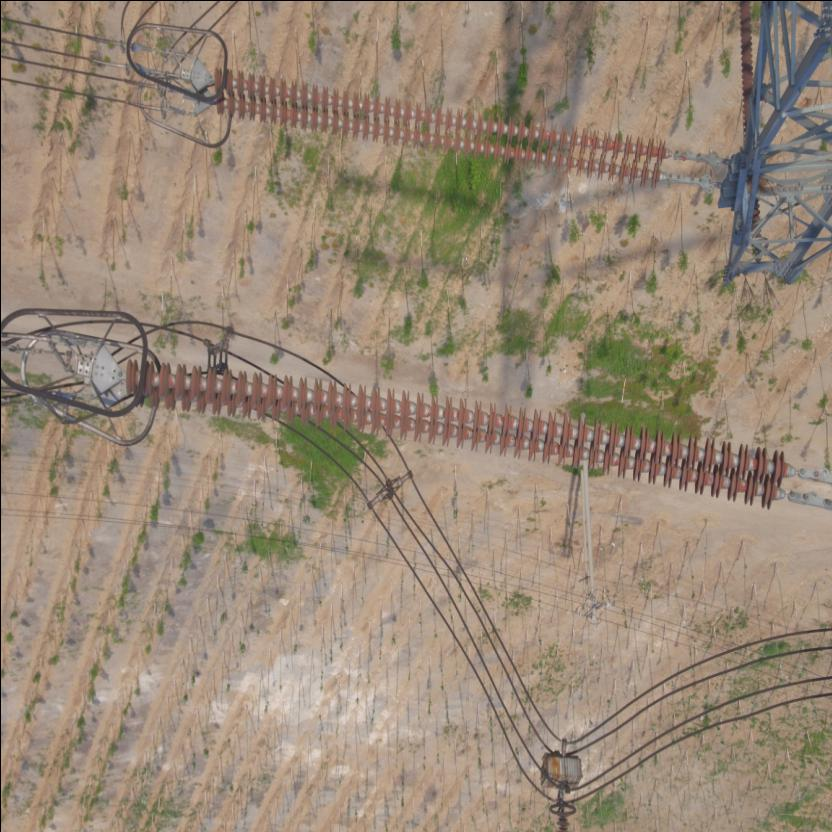insulator: (110, 356, 815, 514), (204, 61, 682, 192)
